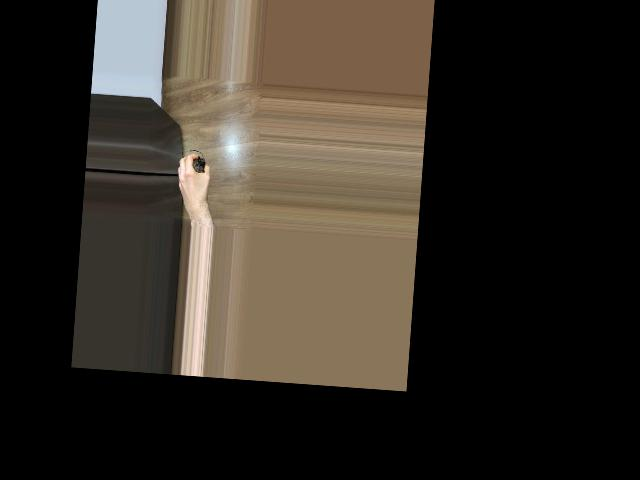beet: (188, 148, 206, 172)
